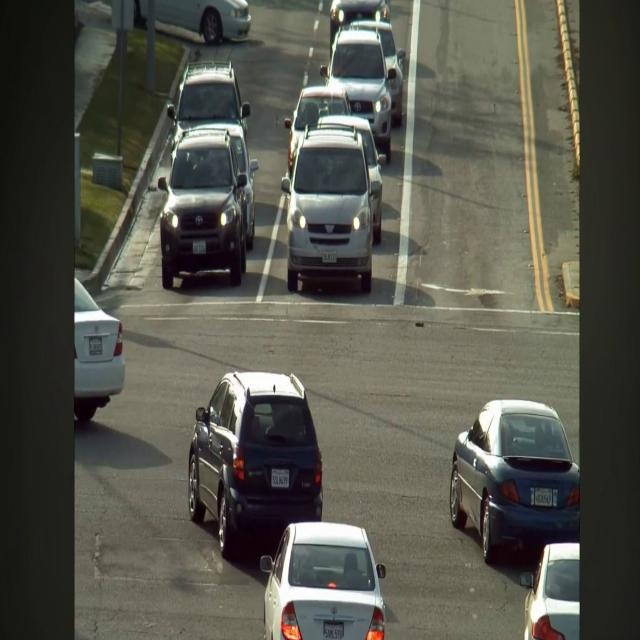car: (189, 372, 322, 559), (450, 400, 579, 564), (281, 126, 378, 293), (261, 522, 385, 639), (158, 128, 247, 289), (320, 30, 396, 162), (318, 116, 385, 244), (74, 278, 125, 423), (167, 61, 250, 146), (206, 123, 258, 250), (347, 20, 405, 126), (284, 86, 350, 175), (520, 543, 579, 639), (156, 0, 251, 45), (330, 0, 390, 50)
